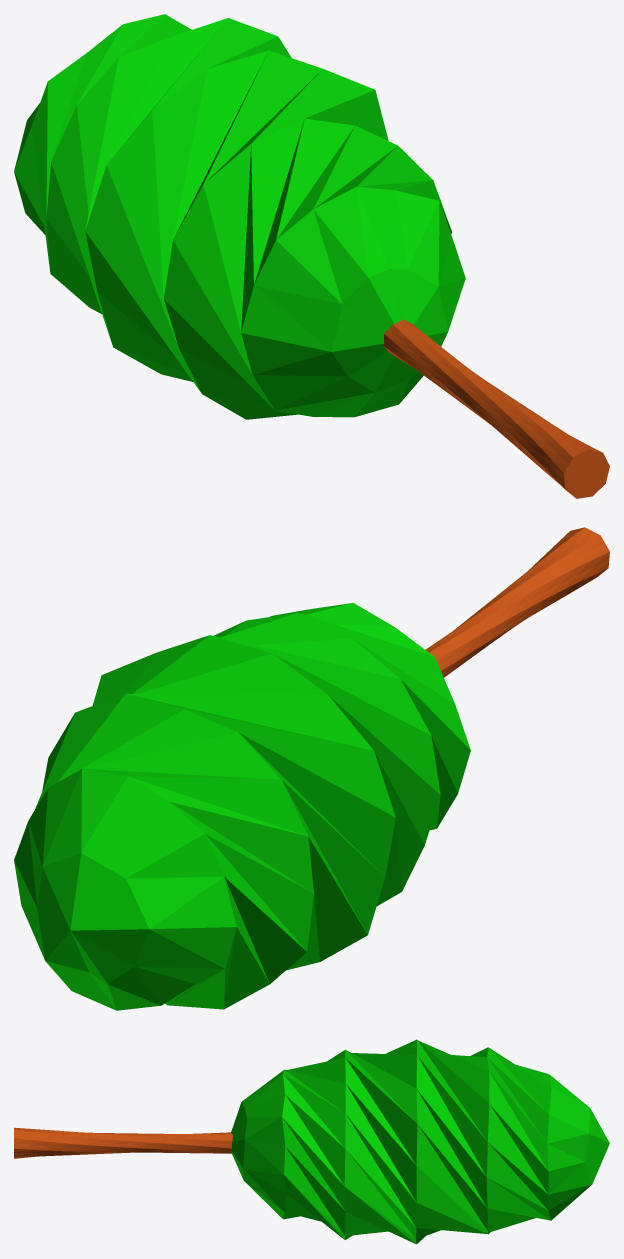
The model's file is tree.obj.
3 renders of one model, top to bottom at view 1: azimuth 30°, elevation 25°; view 2: azimuth 150°, elevation 25°; view 3: azimuth 270°, elevation 25°, orthographic. The views are drawn at different scales.
Visible parts, largest first — view 1: low_poly_tree.001, low_poly_tree; view 2: low_poly_tree.001, low_poly_tree; view 3: low_poly_tree.001, low_poly_tree.
Boxes of the visible parts, left/top/right/bottom form: low_poly_tree.001: left=14, top=14, right=465, bottom=419; low_poly_tree: left=368, top=304, right=609, bottom=498; low_poly_tree.001: left=14, top=603, right=470, bottom=1010; low_poly_tree: left=425, top=527, right=609, bottom=677; low_poly_tree.001: left=234, top=1039, right=609, bottom=1244; low_poly_tree: left=14, top=1123, right=237, bottom=1161.
Size of the model in its own units: 1.62 by 1.63 by 4.66.
